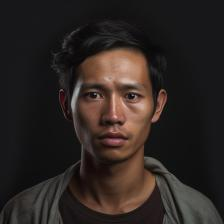Oily: (70, 53, 149, 158)
